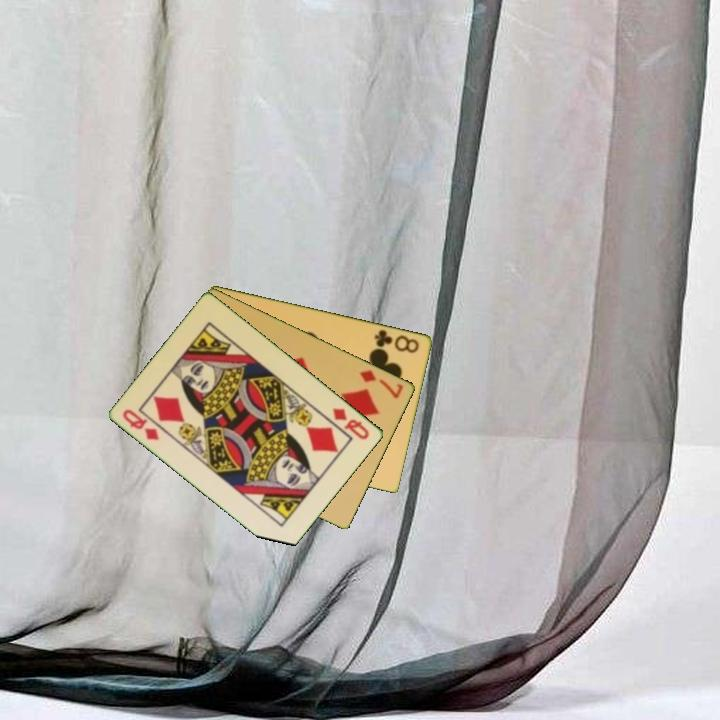7d: (357, 366, 407, 401)
8c: (371, 326, 422, 356)
Qd: (329, 404, 372, 443), (119, 405, 162, 443)
